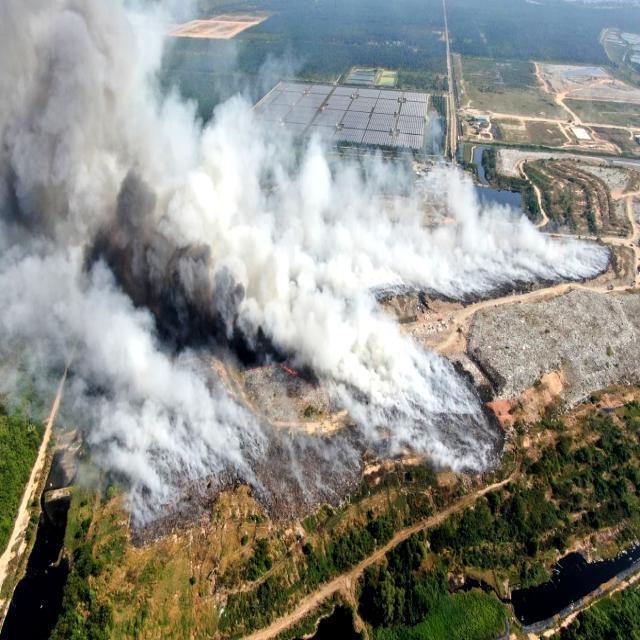Smoke: (0, 0, 409, 464), (281, 122, 588, 300)
